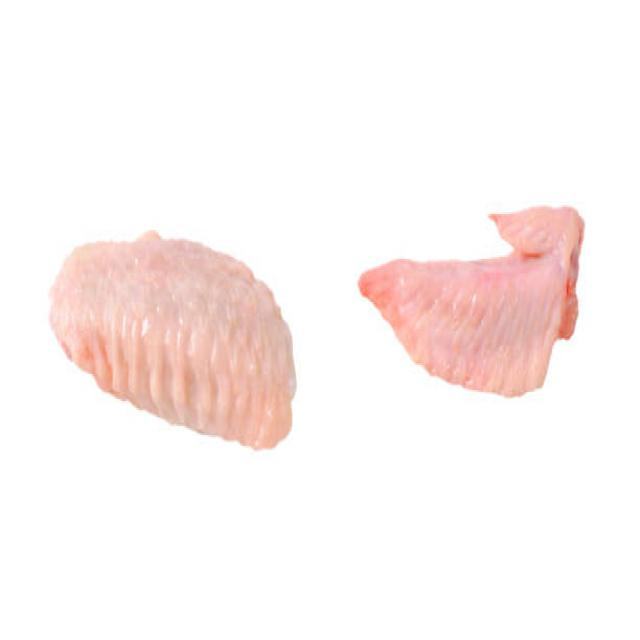chicken: (360, 189, 585, 411)
